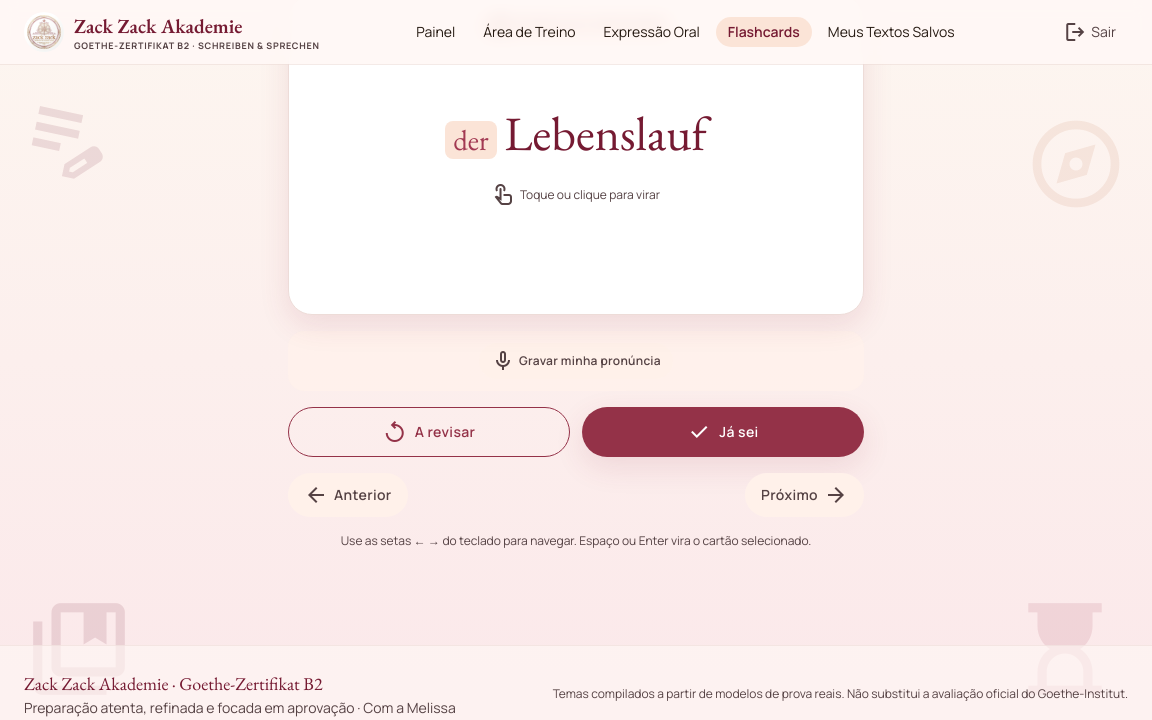
it: Flashcards › pronunciation recording › records the student and plays the recording back, only for the current card
(page scrolled)
Step 1. Click the button with aria-label "gravar minha pronúncia de der Lebenslauf" → x=576, y=360, box [479,342,673,378]
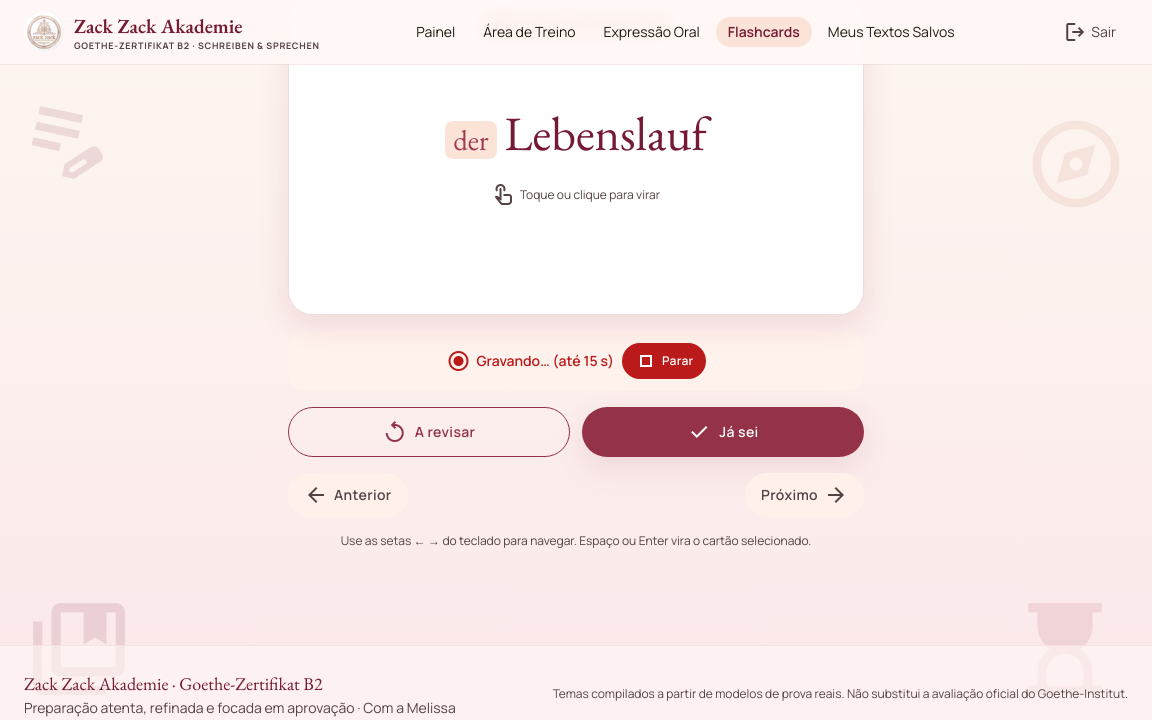
Result: the text "Gravando… (até 15 s)" is shown at [446,348,614,372]
Step 2. Click the button "Parar" → x=664, y=360, box [622,342,706,378]
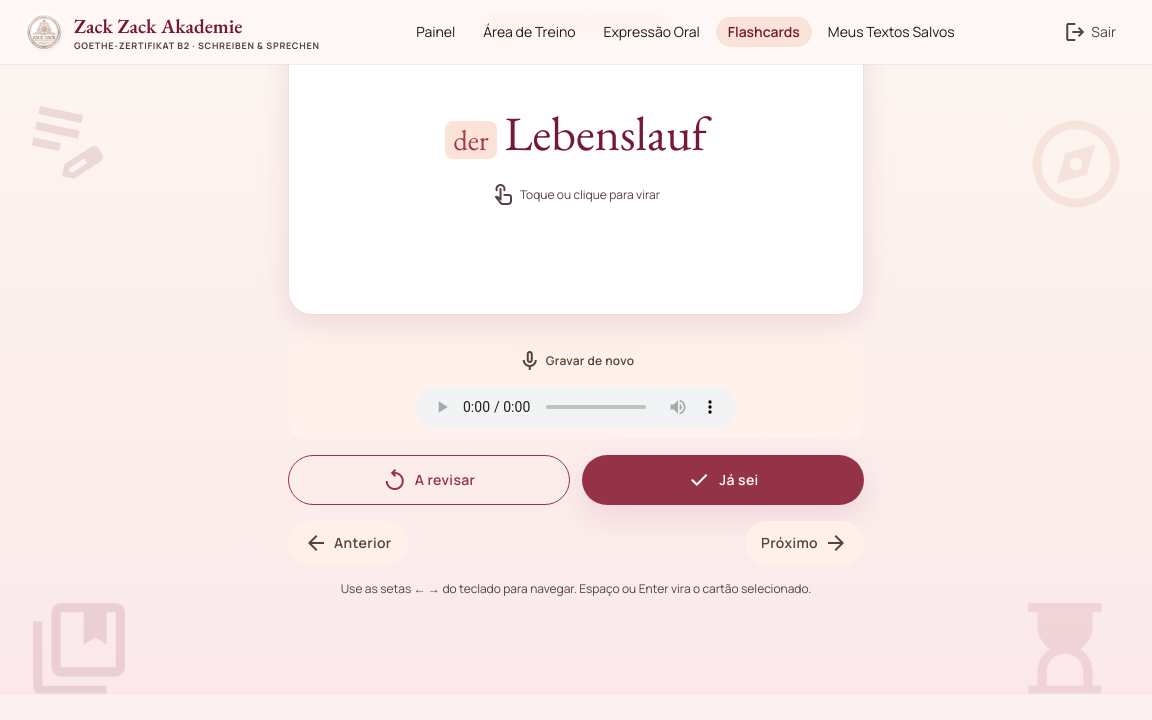
Result: the button "Gravar de novo" is shown at [506,342,646,378]
Step 3. Click the button "Próximo" → x=804, y=542, box [745,520,864,564]
(page scrolled)
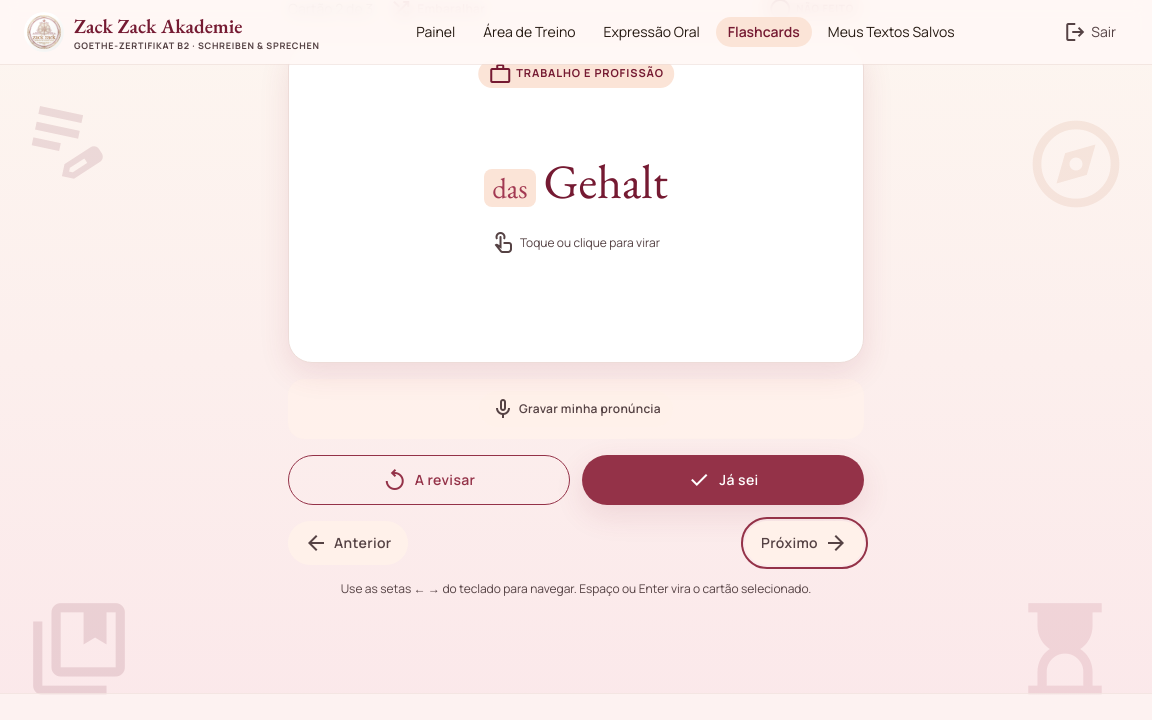
Result: the button with aria-label "gravar minha pronúncia de das Gehalt" is shown at [479,390,673,426]
